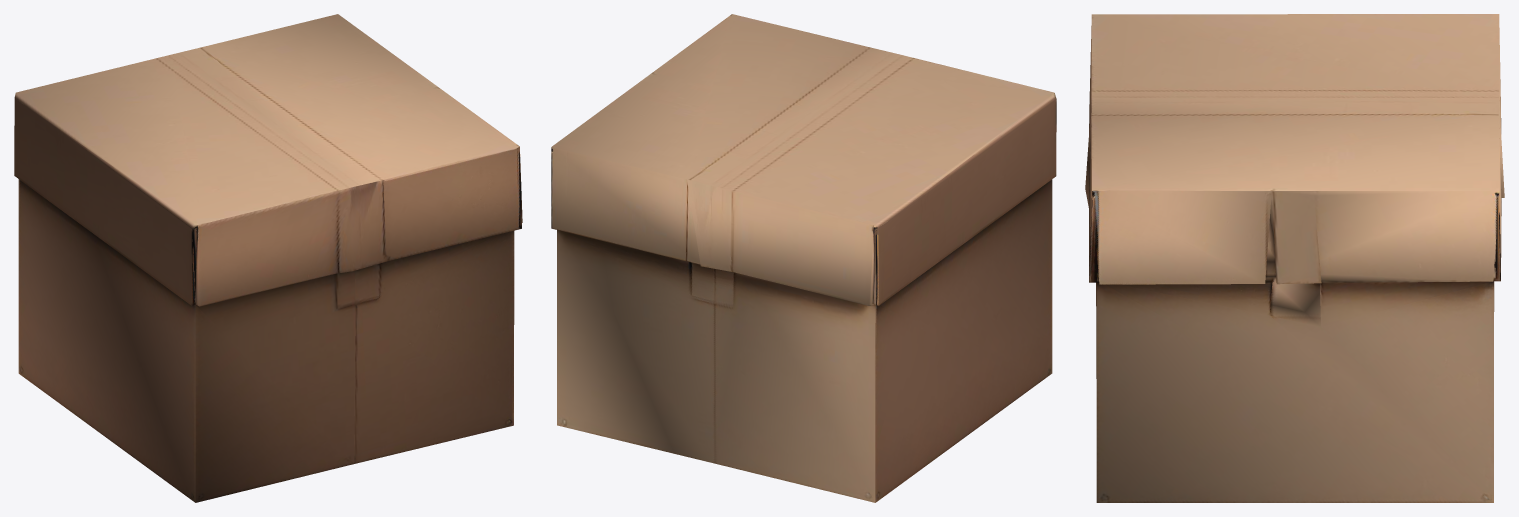
3 renders of one model, left to right at view 1: azimuth 30°, elevation 25°; view 2: azimuth 150°, elevation 25°; view 3: azimuth 270°, elevation 25°, orthographic. The views are drawn at different scales.
Parts seen in each view (by area): view 1: tripo_node_1440ceb9-b891-4cc3-a5d5-33ddfaa9f67d; view 2: tripo_node_1440ceb9-b891-4cc3-a5d5-33ddfaa9f67d; view 3: tripo_node_1440ceb9-b891-4cc3-a5d5-33ddfaa9f67d.
Part boxes in pixels (x1,y1,x2,y2): tripo_node_1440ceb9-b891-4cc3-a5d5-33ddfaa9f67d: (14,14,522,502); tripo_node_1440ceb9-b891-4cc3-a5d5-33ddfaa9f67d: (551,14,1056,502); tripo_node_1440ceb9-b891-4cc3-a5d5-33ddfaa9f67d: (1085,14,1504,502).
Bounding box in the file's own units: 0.9483 × 0.8412 × 0.9234.
Materials: 1 (1 with a texture image).
